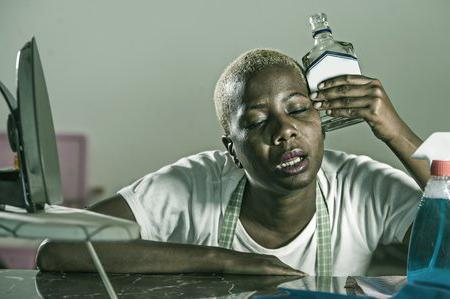Drunk: (234, 72, 318, 187)
